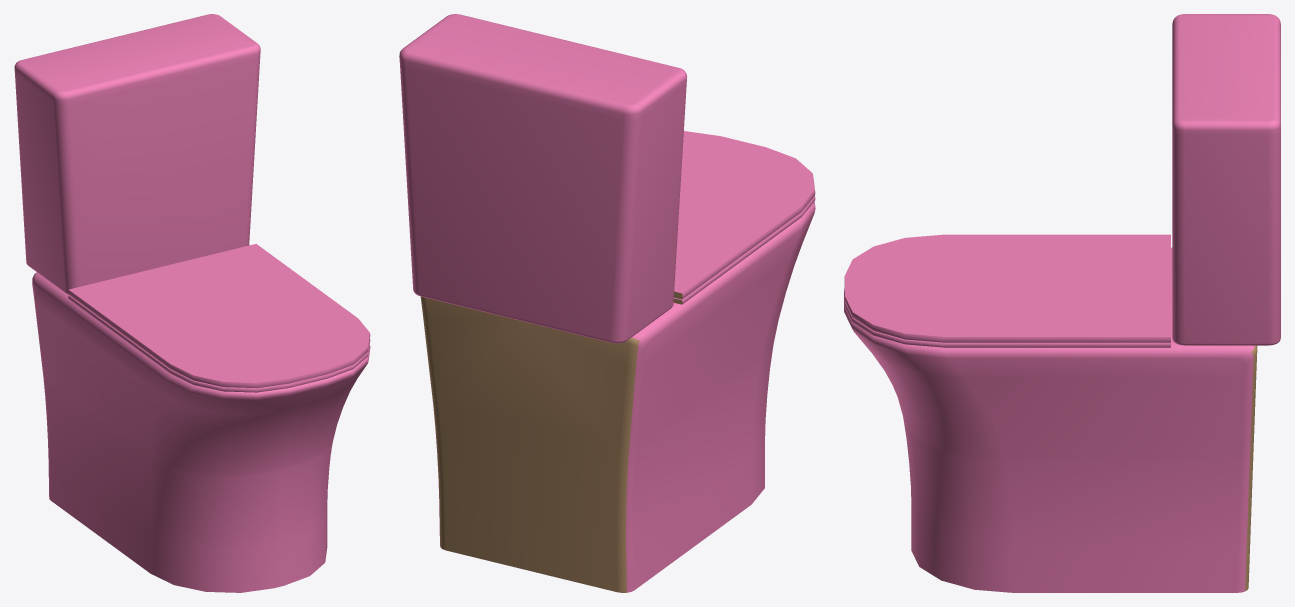
The model's file is Toilet_01.fbx.
3 renders of one model, left to right at view 1: azimuth 30°, elevation 25°; view 2: azimuth 150°, elevation 25°; view 3: azimuth 270°, elevation 25°, orthographic. The views are drawn at different scales.
Parts seen in each view (by area): view 1: Toilet_01; view 2: Toilet_01; view 3: Toilet_01.
Part boxes in pixels (left/top/right/bottom): Toilet_01: left=14, top=14, right=370, bottom=592; Toilet_01: left=399, top=14, right=815, bottom=592; Toilet_01: left=844, top=14, right=1280, bottom=592.
Bounding box in the file's own units: 45.25 × 90.37 × 74.49.
